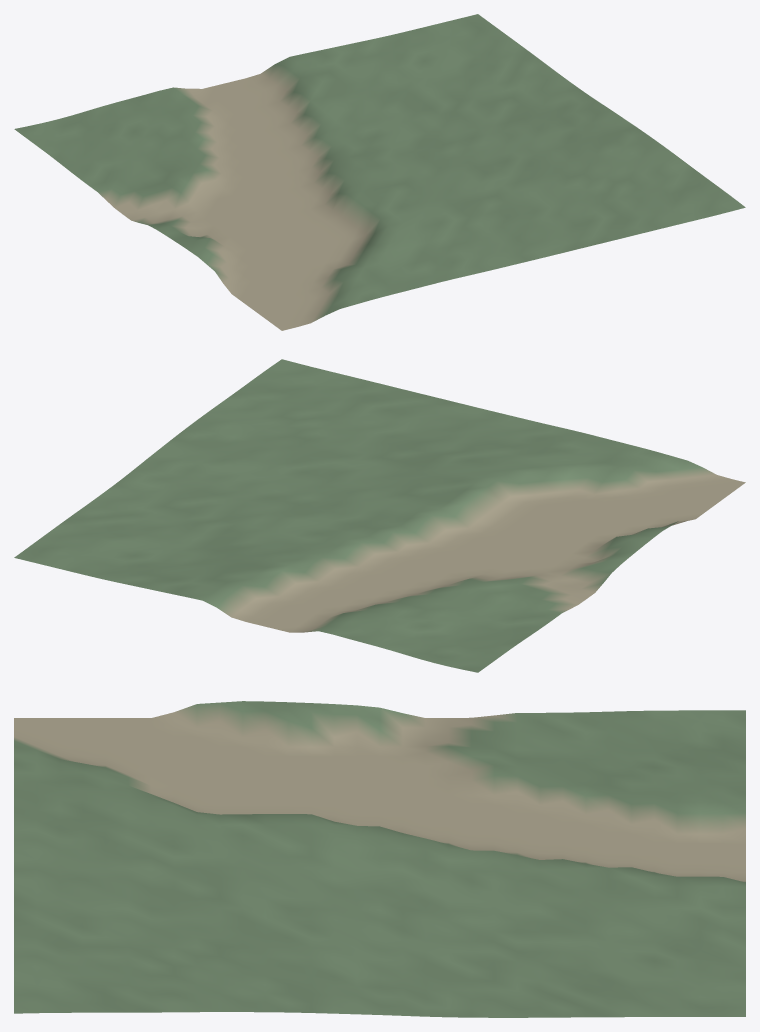
3 views of the same model, one above another, from view 1: azimuth 30°, elevation 25°; view 2: azimuth 150°, elevation 25°; view 3: azimuth 270°, elevation 25° (orthographic). The views are drawn at different scales.
Parts seen in each view (by area): view 1: Terrain-col; view 2: Terrain-col; view 3: Terrain-col.
Part boxes in pixels (x1=…): Terrain-col: x1=14, y1=14, x2=745, y2=330; Terrain-col: x1=14, y1=359, x2=745, y2=672; Terrain-col: x1=14, y1=701, x2=745, y2=1017.
Bounding box in the file's own units: 256 × 7.75 × 256.
